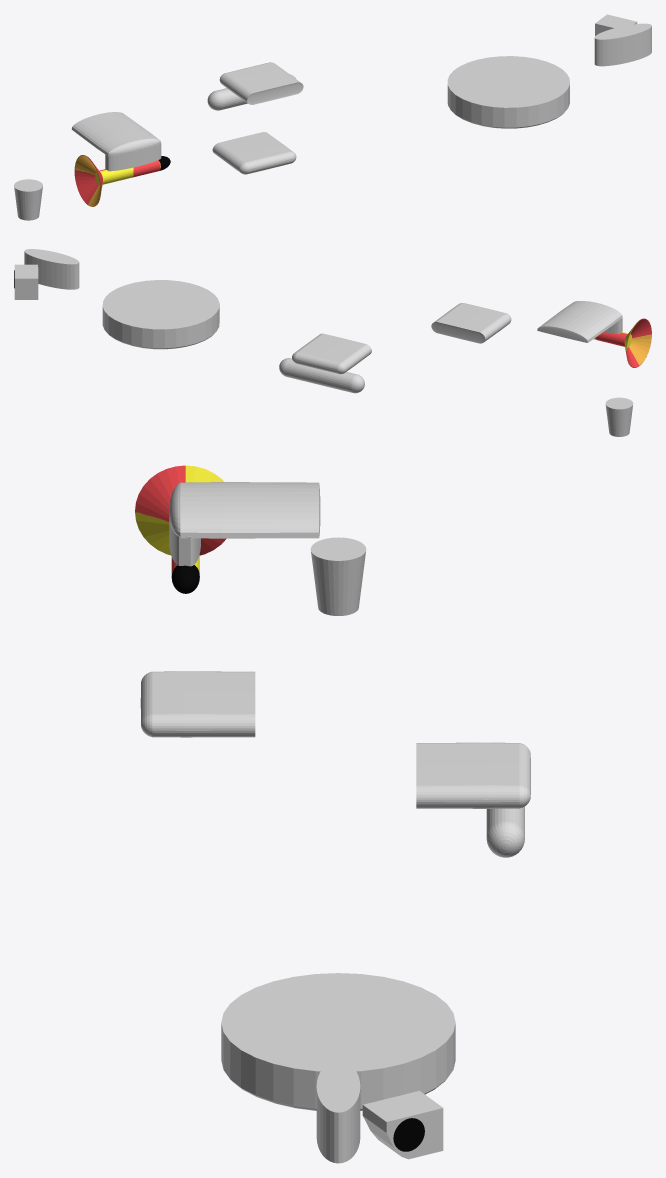
The picture shows the model from 3 angles, top to bottom: view 1: azimuth 30°, elevation 25°; view 2: azimuth 150°, elevation 25°; view 3: azimuth 270°, elevation 25°; orthographic projection. The views are drawn at different scales.
Parts seen in each view (by area): view 1: 円柱, 球.002, 球.001, 球, 円柱.002, 円柱.005, 円柱.006, 円柱.003, 円柱.004, 円柱.001, 立方体; view 2: 円柱, 球.002, 球, 球.001, 円柱.002, 円柱.001, 円柱.005, 円柱.006, 立方体, 円柱.004; view 3: 円柱, 球.002, 球, 球.001, 円柱.002, 円柱.006, 円柱.005, 立方体, 円柱.001.
Boxes of the visible parts, bbox=[...] form: 円柱: bbox=[447, 56, 569, 128]; 球.002: bbox=[71, 112, 160, 156]; 球.001: bbox=[219, 62, 303, 104]; 球: bbox=[212, 132, 296, 174]; 円柱.002: bbox=[594, 23, 651, 66]; 円柱.005: bbox=[74, 155, 102, 206]; 円柱.006: bbox=[14, 179, 42, 220]; 円柱.003: bbox=[105, 143, 161, 171]; 円柱.004: bbox=[95, 160, 160, 185]; 円柱.001: bbox=[207, 74, 295, 110]; 立方体: bbox=[595, 14, 637, 35]; 円柱: bbox=[102, 280, 219, 349]; 球.002: bbox=[537, 301, 622, 342]; 球: bbox=[431, 303, 511, 343]; 球.001: bbox=[292, 333, 371, 374]; 円柱.002: bbox=[24, 249, 79, 289]; 円柱.001: bbox=[279, 358, 364, 393]; 円柱.005: bbox=[624, 318, 651, 367]; 円柱.006: bbox=[605, 397, 633, 436]; 立方体: bbox=[14, 264, 38, 299]; 円柱.004: bbox=[593, 332, 631, 347]; 円柱: bbox=[221, 973, 455, 1110]; 球.002: bbox=[169, 482, 320, 538]; 球: bbox=[140, 671, 255, 737]; 球.001: bbox=[416, 742, 530, 808]; 円柱.002: bbox=[316, 1060, 360, 1163]; 円柱.006: bbox=[310, 537, 366, 615]; 円柱.005: bbox=[135, 465, 226, 555]; 立方体: bbox=[362, 1091, 443, 1159]; 円柱.001: bbox=[486, 806, 524, 857].
Bounding box in the file's own units: 9.61 × 1.4 × 2.72.
4 materials, 2 textured.
